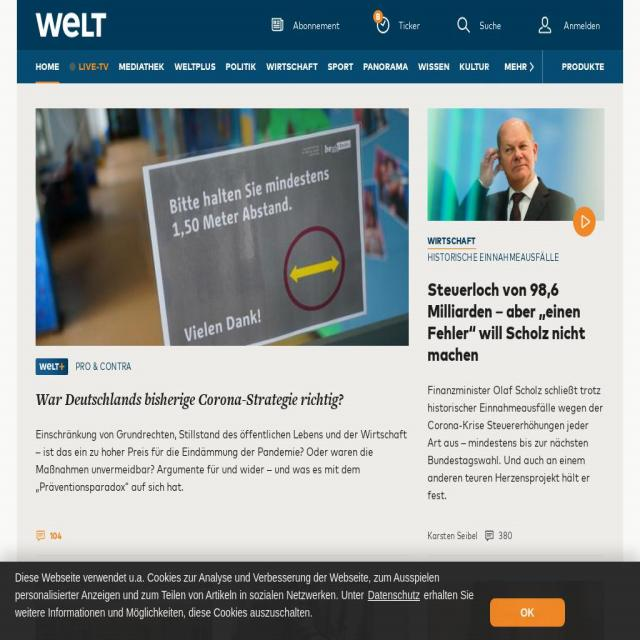button: (490, 598, 566, 626)
